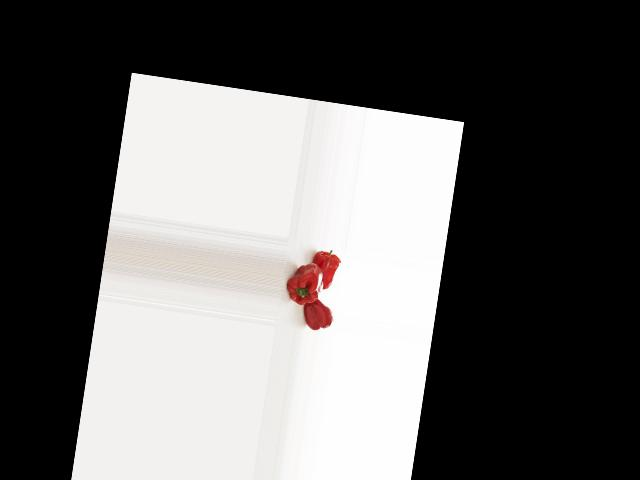bell_pepper: (299, 299, 335, 334)
